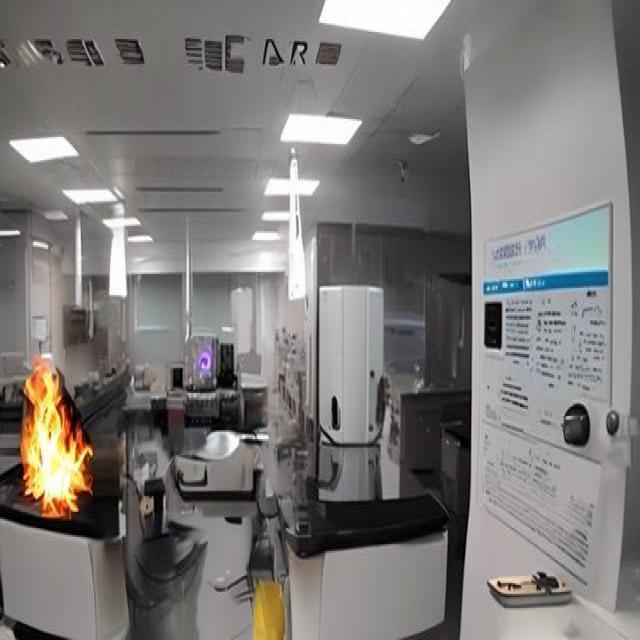smoke: (20, 336, 90, 523)
